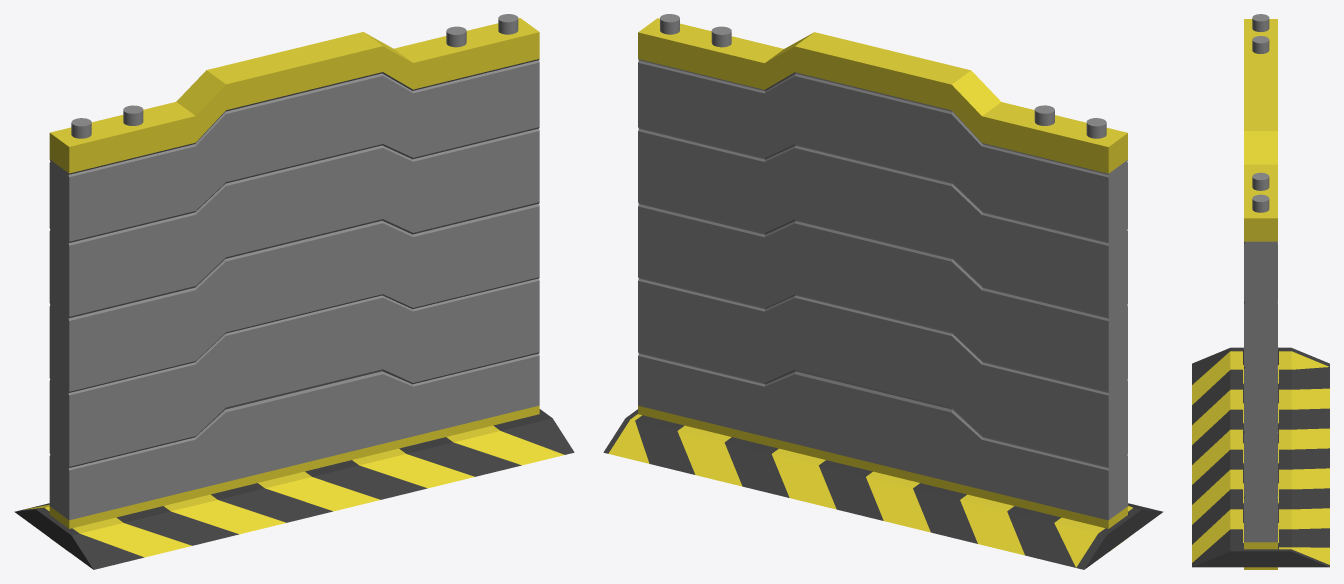
File: retractableDoor.fbx
The picture shows the model from 3 angles, left to right: view 1: azimuth 30°, elevation 25°; view 2: azimuth 150°, elevation 25°; view 3: azimuth 270°, elevation 25°; orthographic projection. The views are drawn at different scales.
Visible parts, largest first — view 1: Retractable Door, Door Guard; view 2: Retractable Door, Door Guard; view 3: Door Guard, Retractable Door.
Part boxes in pixels (x1=…): Retractable Door: x1=49, y1=14, x2=539, y2=550; Door Guard: x1=14, y1=409, x2=574, y2=569; Retractable Door: x1=638, y1=14, x2=1127, y2=548; Door Guard: x1=603, y1=409, x2=1163, y2=569; Door Guard: x1=1192, y1=347, x2=1329, y2=567; Retractable Door: x1=1244, y1=14, x2=1277, y2=569.
Bounding box in the file's own units: 490 × 140 × 418.
